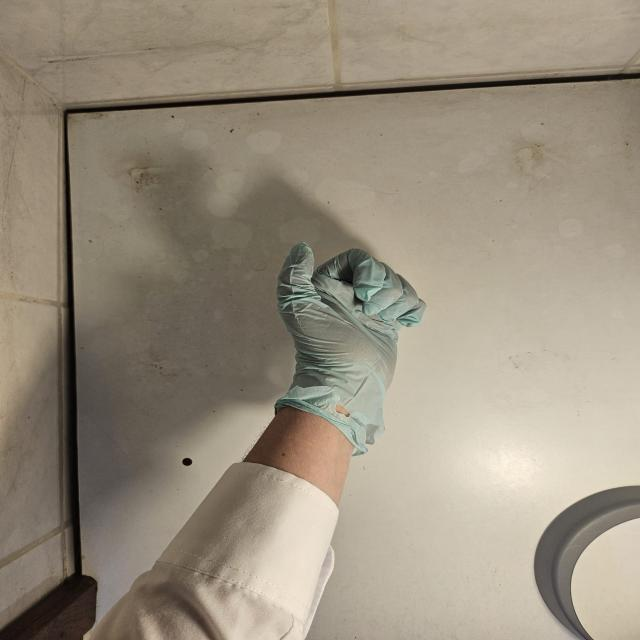gloves_damaged: (274, 238, 429, 455)
